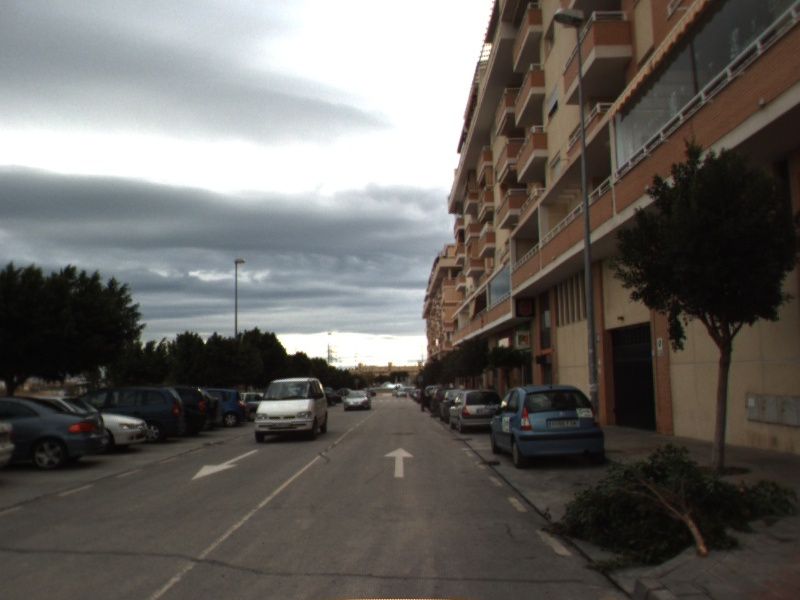STRAIGHT: (382, 445, 416, 480)
